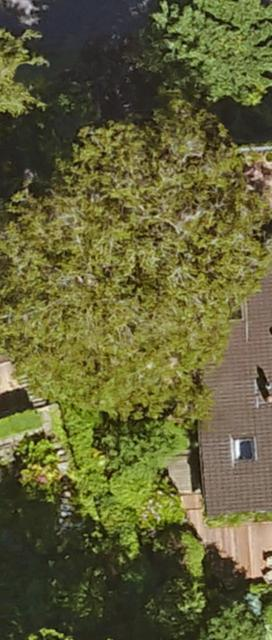tree: (0, 109, 262, 417), (145, 0, 272, 105), (1, 23, 46, 122), (202, 600, 267, 640)
